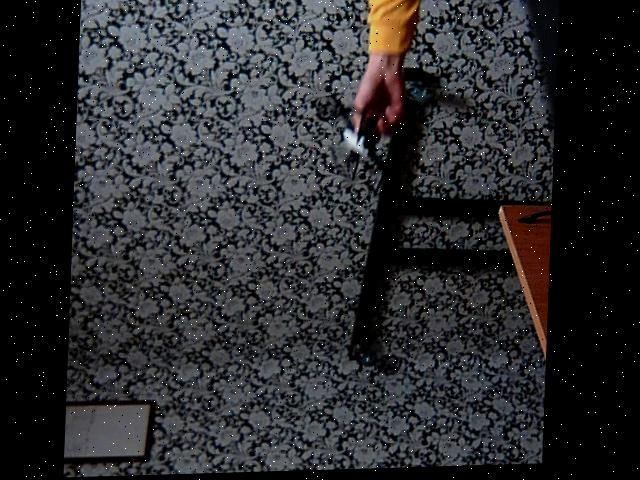drone: (309, 94, 410, 201)
